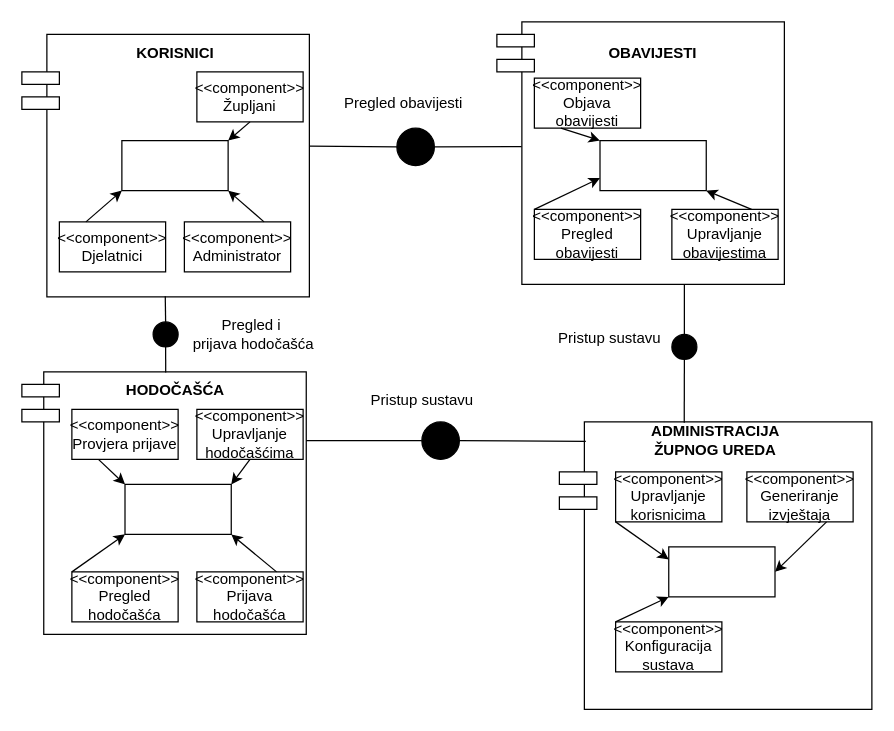
Image size: 894x731. Some labels were removed from this diagram. Each missing label, with the centre of its shape:
"<<component>> Administracija" belongs at (721,571).
"<<component>> Hodočašća" belongs at (177,508).
"<<component>> Korisnik" belongs at (174,165).
"<<component>> Obavijest" belongs at (652,165).
